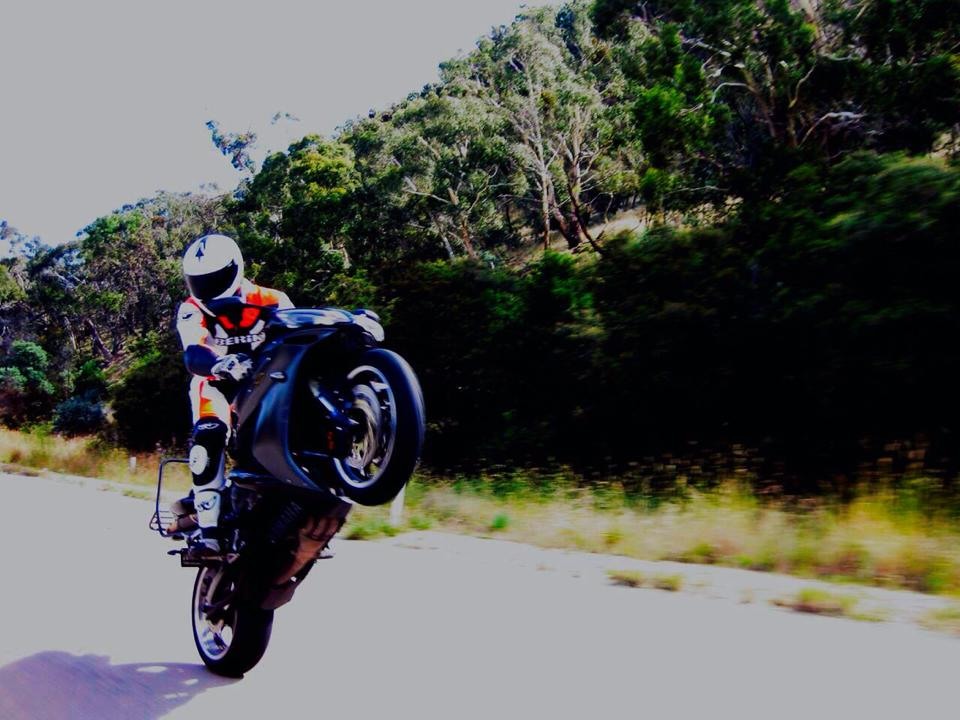helmet: (157, 215, 442, 500)
